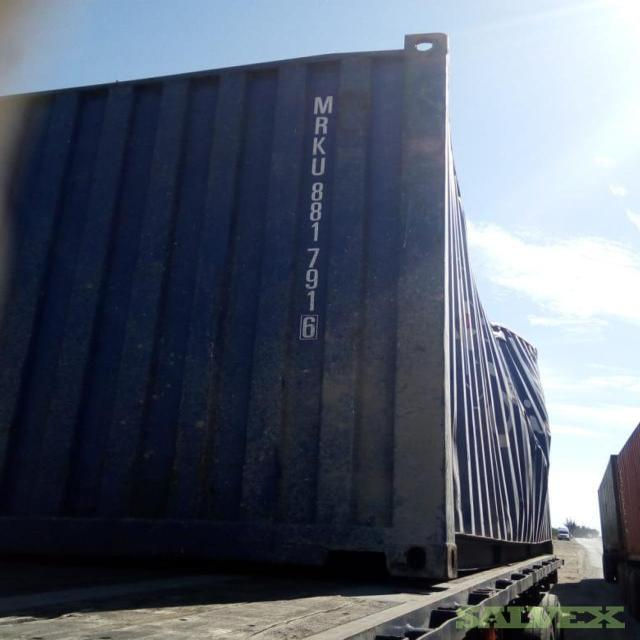dent: (463, 298, 569, 567)
